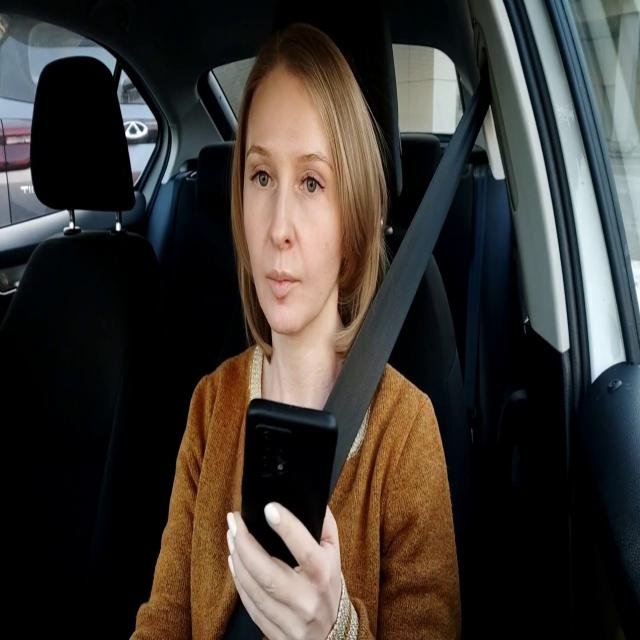phone: (240, 394, 340, 572)
